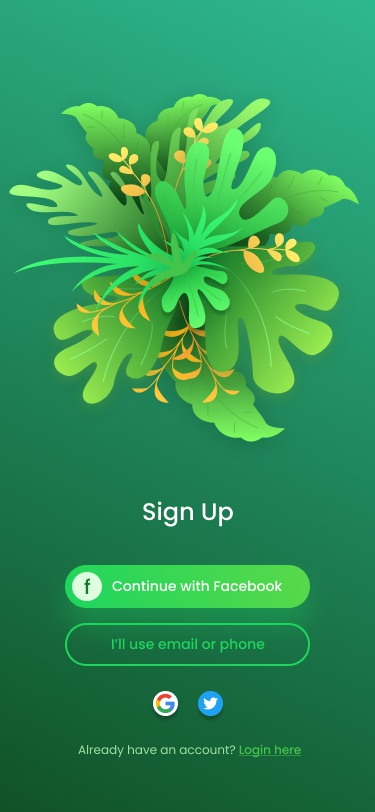Icon: (198, 690, 224, 717), (153, 690, 179, 717)
Image: (9, 94, 359, 444)
Text: (78, 744, 302, 758), (142, 500, 234, 528)
TextButton: (65, 564, 311, 609), (65, 622, 311, 667)
